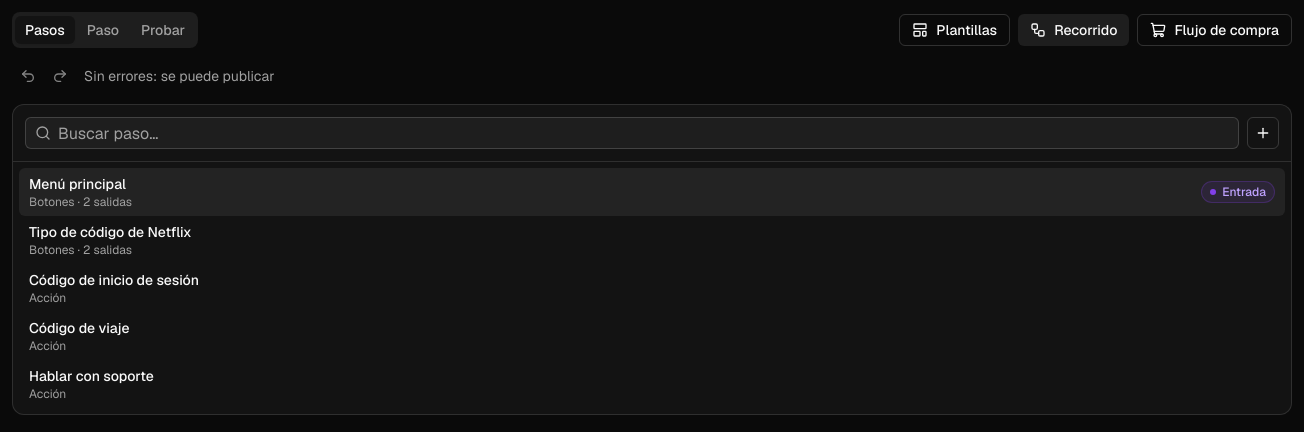
it: estudio del recorrido en pantallas angostas › filtra los pasos por nombre sin distinguir acentos ni mayúsculas
Type "CODIGO" into the search field labelled "Buscar paso" at (632, 133), box [25,117,1239,149]
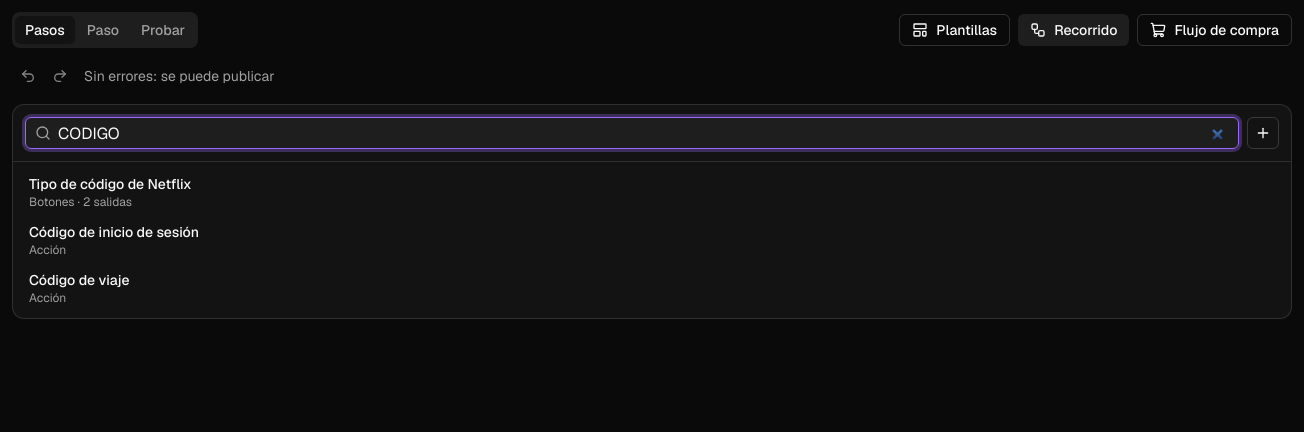
Replace the text in the search field named "Buscar paso" with "zzzz" at (632, 133), box [25,117,1239,149]
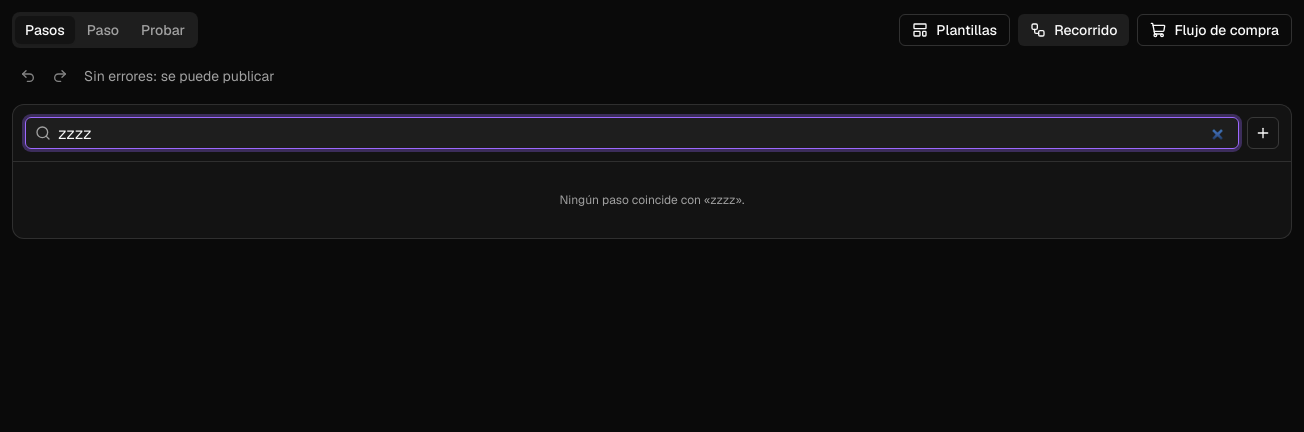
Now the list item "Ningún paso coincide con «zzzz»." is shown, box [560,192,744,208]
